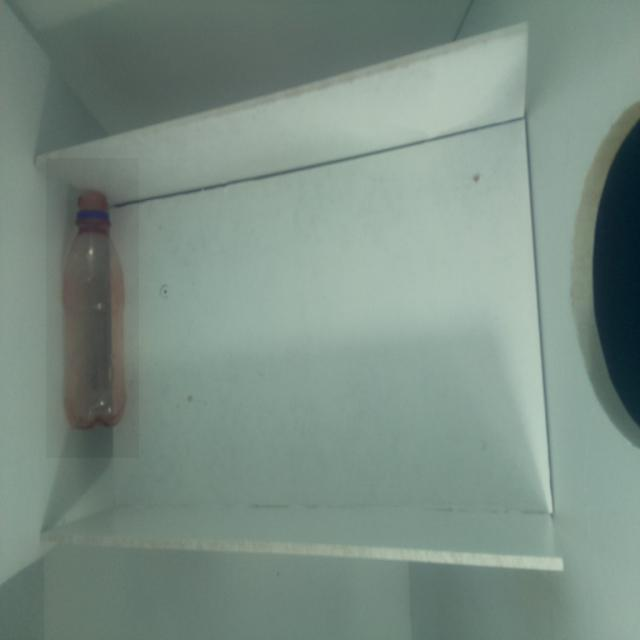BIODEGRADABLE: (46, 158, 139, 458)
